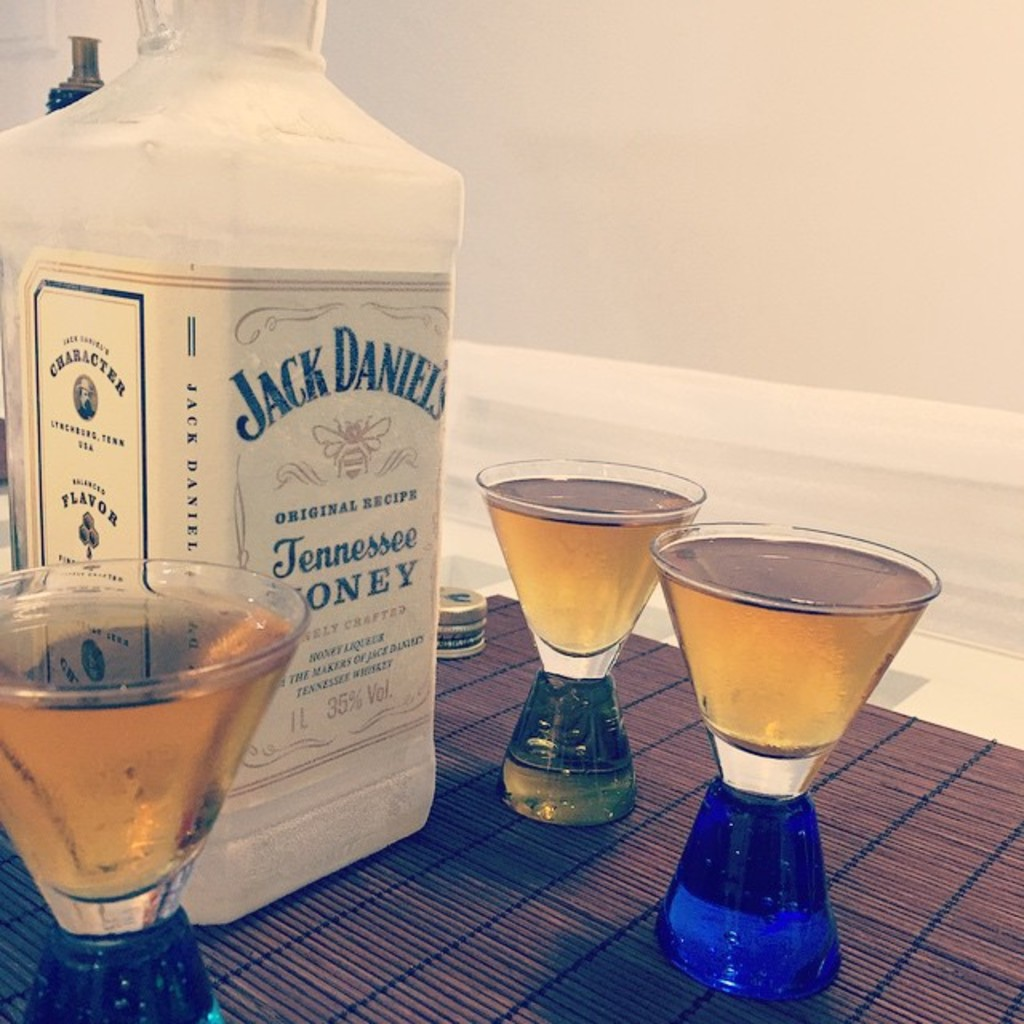Beer: (0, 580, 292, 915), (660, 534, 937, 763), (475, 462, 700, 678)
